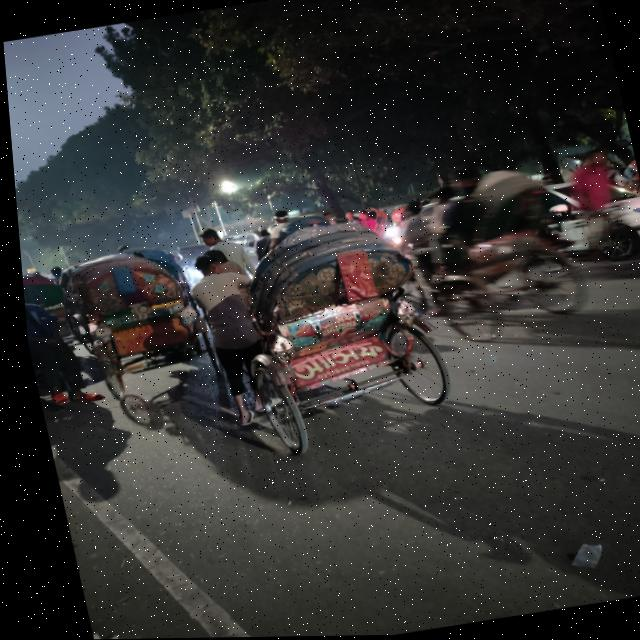rikshaw: (201, 184, 478, 497), (16, 217, 235, 422), (416, 162, 600, 361)
